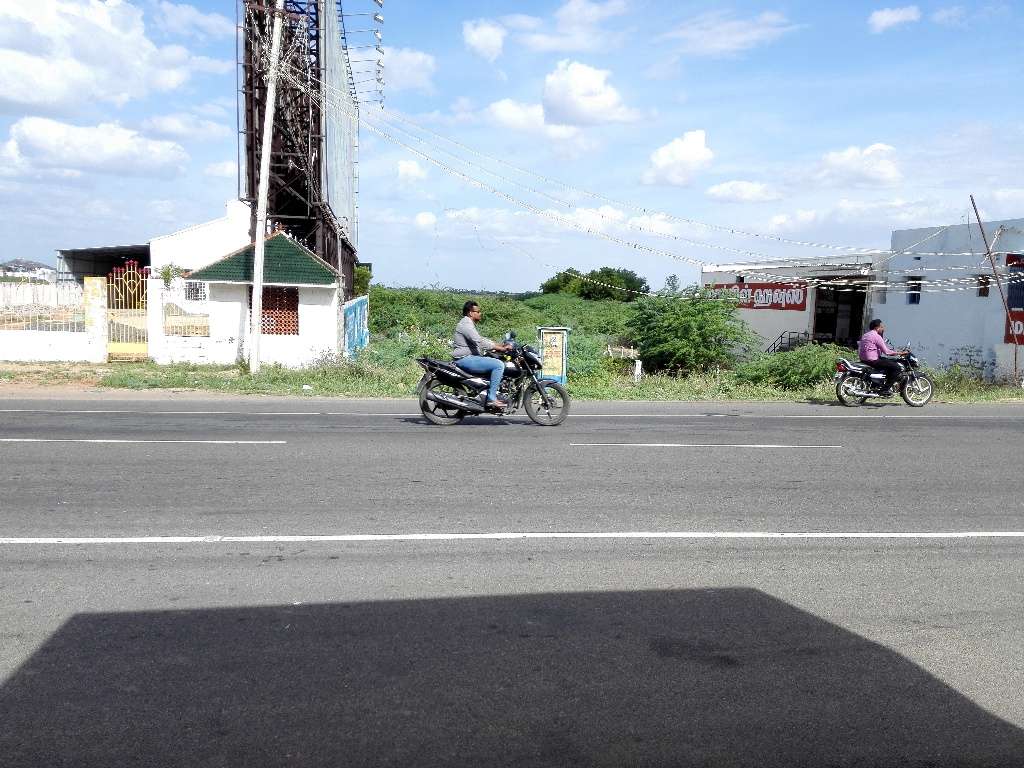biker: (408, 276, 581, 437), (823, 298, 947, 417)
nohelmet: (458, 291, 488, 335), (860, 308, 890, 345)
